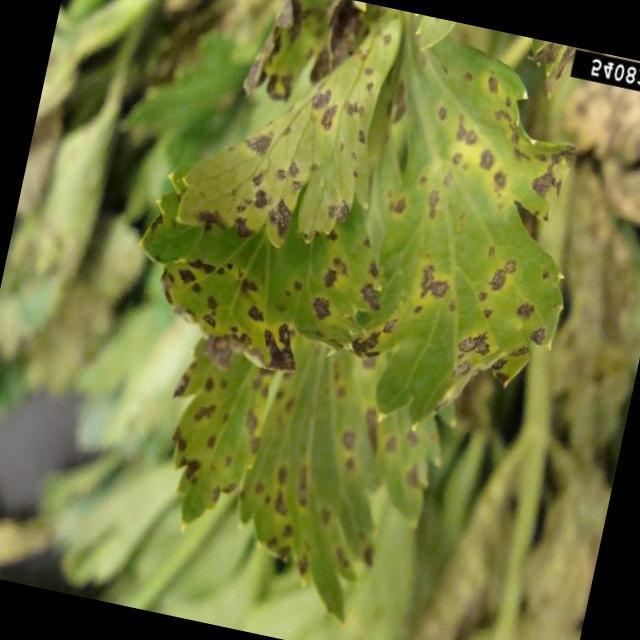Septoria: (371, 57, 581, 384), (143, 216, 390, 418), (196, 34, 380, 256)
